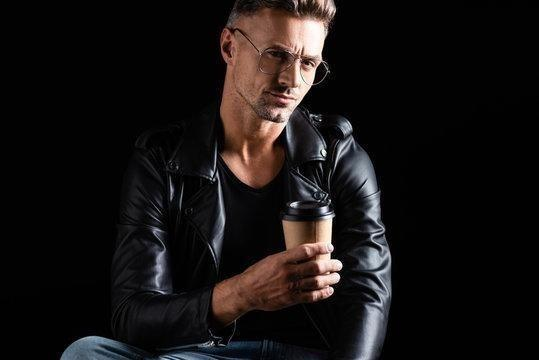cup-disposable: (280, 197, 336, 292)
